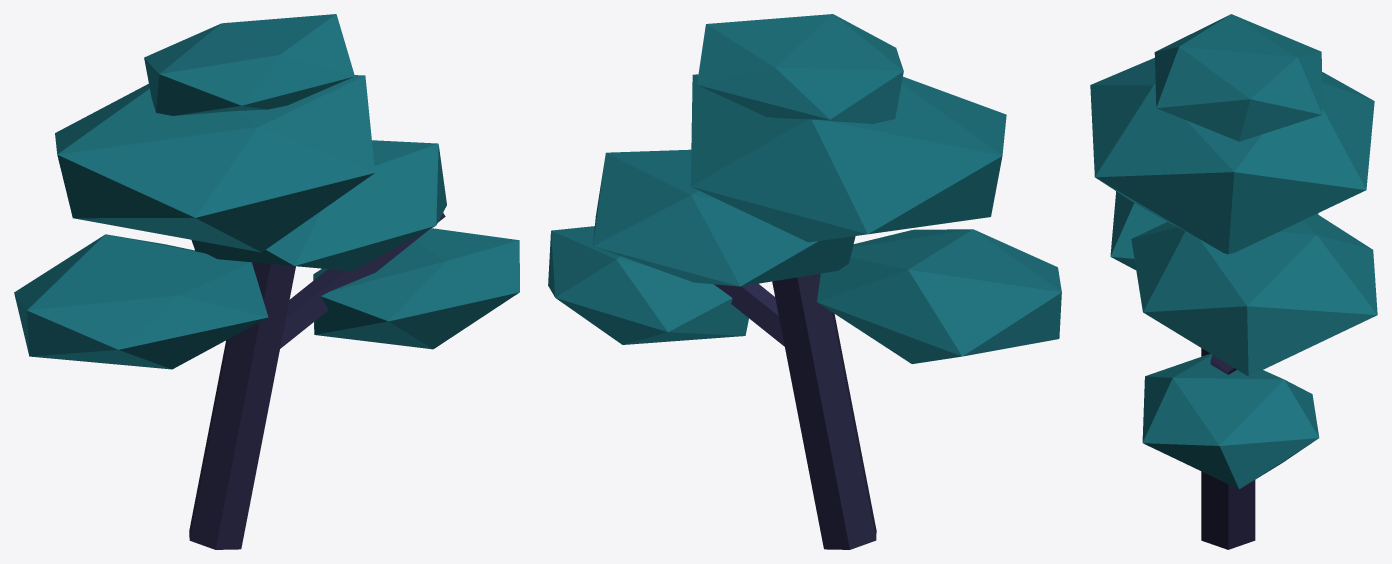
The model's file is pine.glb.
3 views of the same model, side by side, from view 1: azimuth 30°, elevation 25°; view 2: azimuth 150°, elevation 25°; view 3: azimuth 270°, elevation 25° (orthographic). The views are drawn at different scales.
Parts seen in each view (by area): view 1: Needles, Trunk; view 2: Needles, Trunk; view 3: Needles, Trunk.
Boxes of the visible parts, bbox=[...] form: Needles: bbox=[14, 14, 519, 369]; Trunk: bbox=[189, 213, 445, 549]; Needles: bbox=[548, 14, 1061, 363]; Trunk: bbox=[714, 273, 876, 549]; Needles: bbox=[1090, 14, 1377, 489]; Trunk: bbox=[1201, 348, 1255, 549].
Size of the model in its own units: 4.18 by 3.99 by 2.03.
